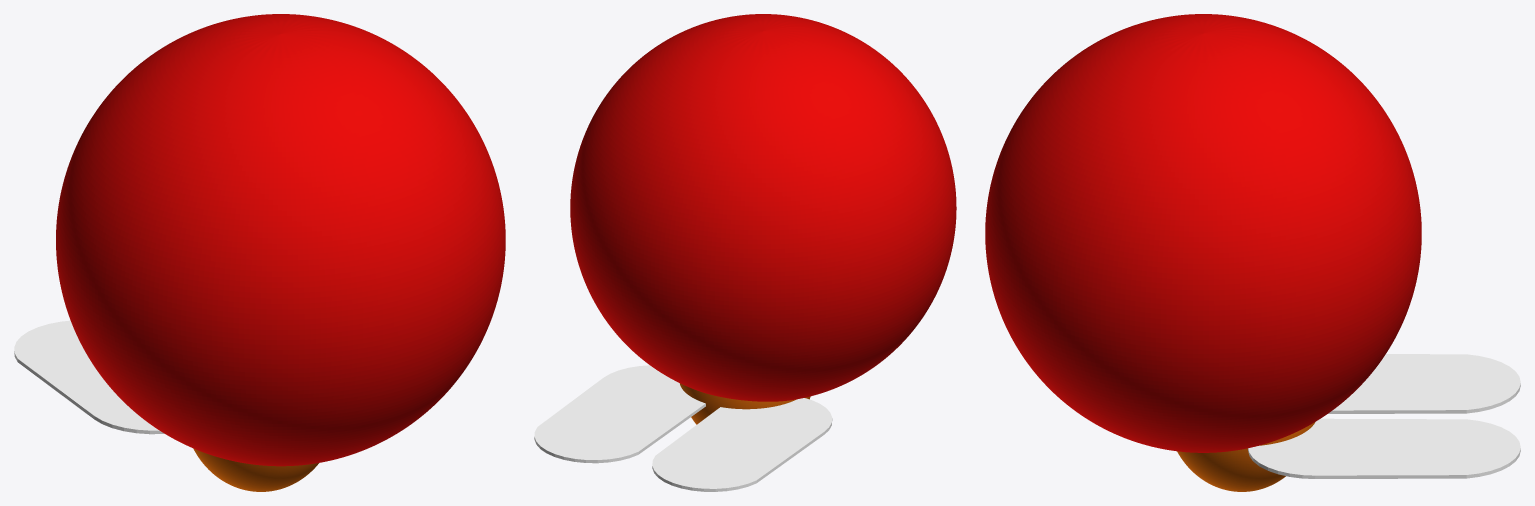
Rendered from kusoelmo.fbx.
3 renders of one model, left to right at view 1: azimuth 30°, elevation 25°; view 2: azimuth 150°, elevation 25°; view 3: azimuth 270°, elevation 25°, orthographic. The views are drawn at different scales.
Visible parts, largest first — view 1: Kusoelmo.001|Body|Dupli|0.2, Kusoelmo.001|Cylinder.004|Dupli|, Kusoelmo.001|Nose|Dupli|1.2; view 2: Kusoelmo.001|Body|Dupli|0.2, Kusoelmo.001|Cylinder.004|Dupli|, Kusoelmo.001|Cylinder.002|Dupli|0.1, Kusoelmo.001|Nose|Dupli|1.2; view 3: Kusoelmo.001|Body|Dupli|0.2, Kusoelmo.001|Cylinder.002|Dupli|0.1, Kusoelmo.001|Cylinder.004|Dupli|, Kusoelmo.001|Nose|Dupli|1.2.
Part boxes in pixels (box(x1,y1,x2,y2)): Kusoelmo.001|Body|Dupli|0.2: box(56, 14, 505, 466); Kusoelmo.001|Cylinder.004|Dupli|: box(14, 320, 164, 434); Kusoelmo.001|Nose|Dupli|1.2: box(193, 448, 318, 491); Kusoelmo.001|Body|Dupli|0.2: box(570, 14, 956, 401); Kusoelmo.001|Cylinder.004|Dupli|: box(652, 398, 832, 491); Kusoelmo.001|Cylinder.002|Dupli|0.1: box(534, 365, 705, 463); Kusoelmo.001|Nose|Dupli|1.2: box(680, 383, 810, 424); Kusoelmo.001|Body|Dupli|0.2: box(985, 14, 1421, 452); Kusoelmo.001|Cylinder.002|Dupli|0.1: box(1248, 418, 1520, 478); Kusoelmo.001|Cylinder.004|Dupli|: box(1328, 354, 1520, 413); Kusoelmo.001|Nose|Dupli|1.2: box(1177, 422, 1315, 491).
Bounding box in the file's own units: 227 × 260 × 279.
